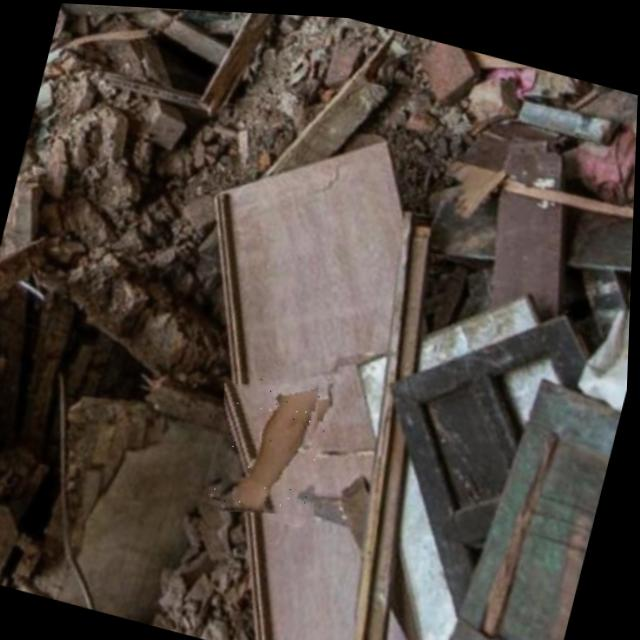Person in Rubble: (204, 364, 340, 525)
